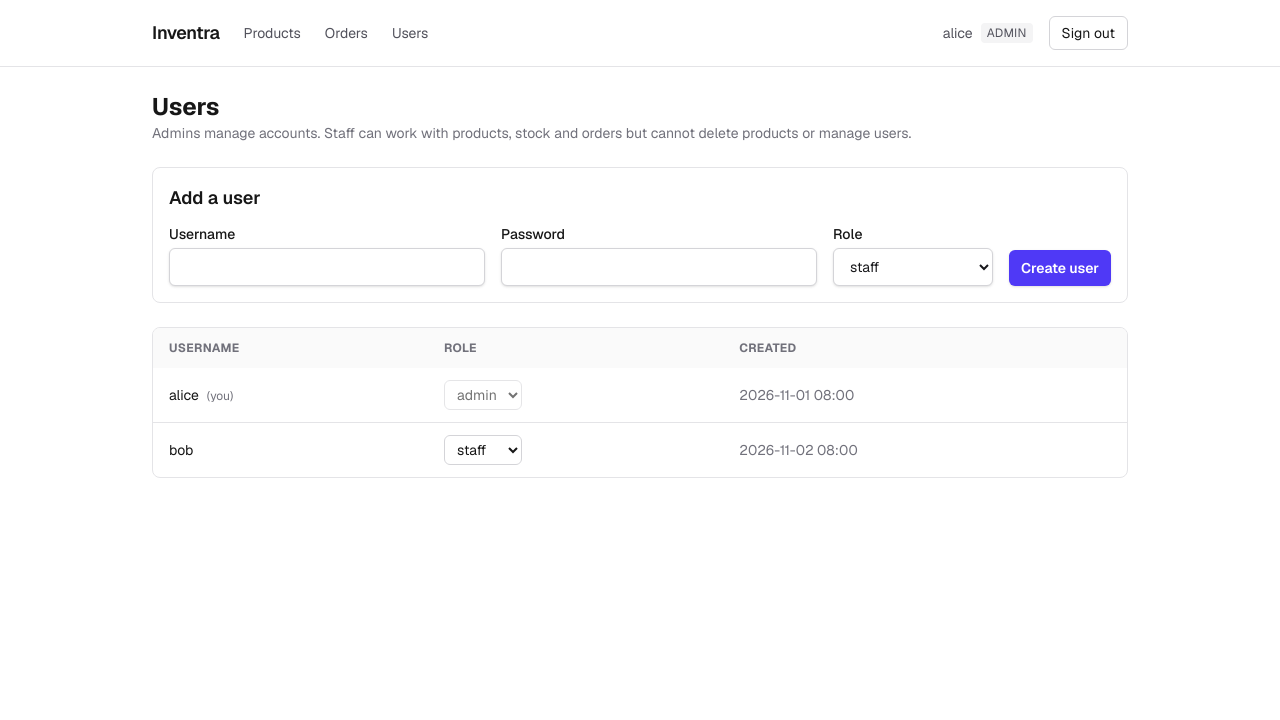
Test case: UsersPage › lets an admin see the users and add one
This screenshot has width=1280, height=720.
Check: the heading "Users" is shown, box [152,91,219,122]
In the field labelled "Username": (327, 267) [169,248,485,286], type "carol"
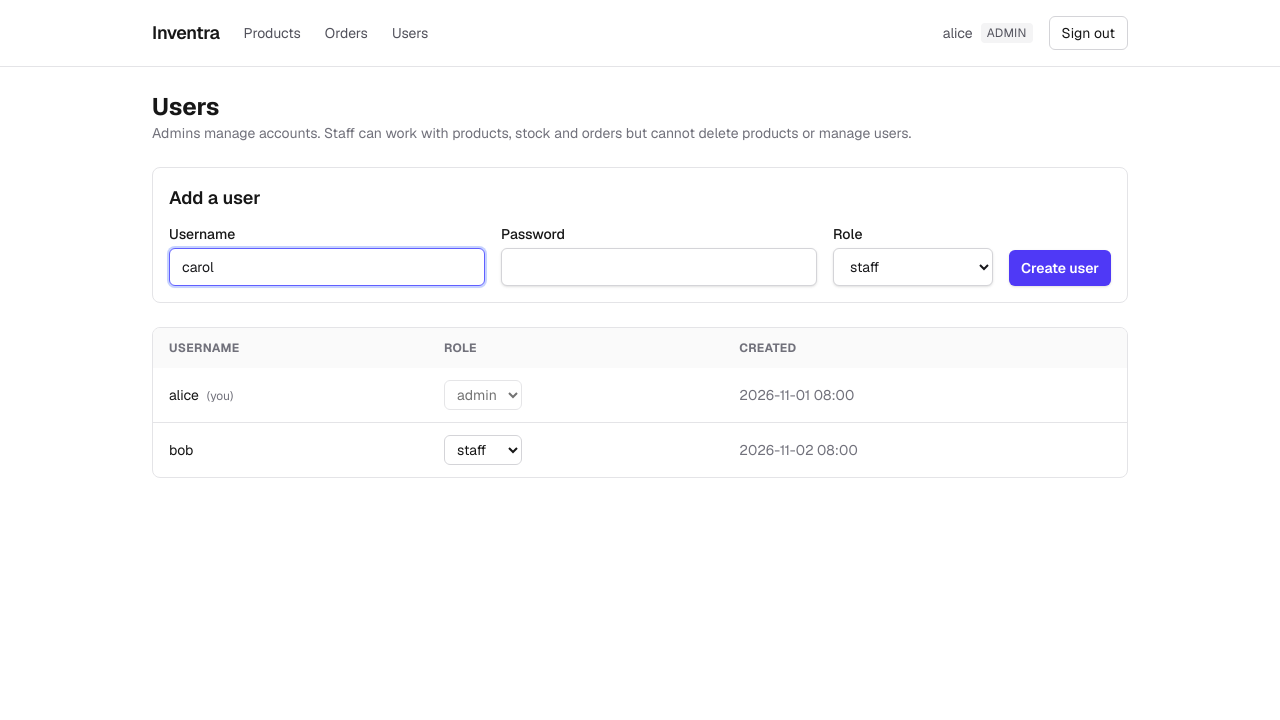
In the password field labelled "Password": (659, 267) [501,248,817,286], type "carolpass1"
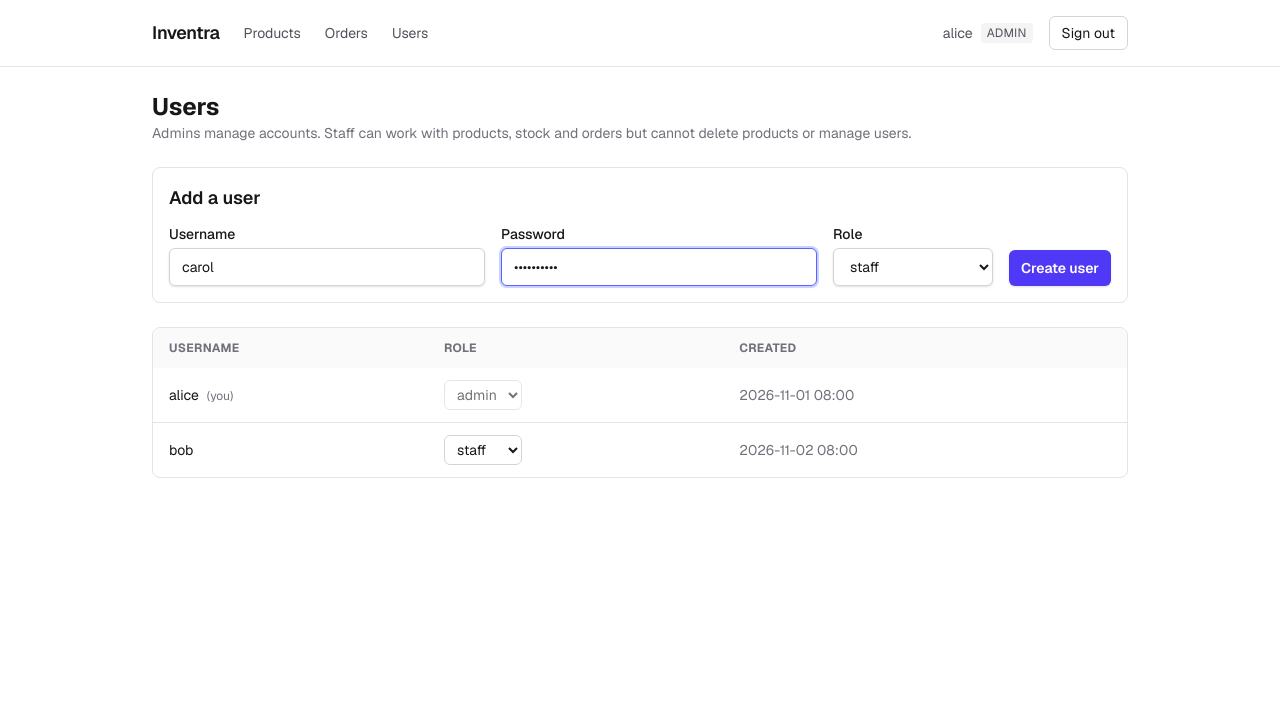
Click the button "Create user": (1060, 268) [1009,250,1111,286]
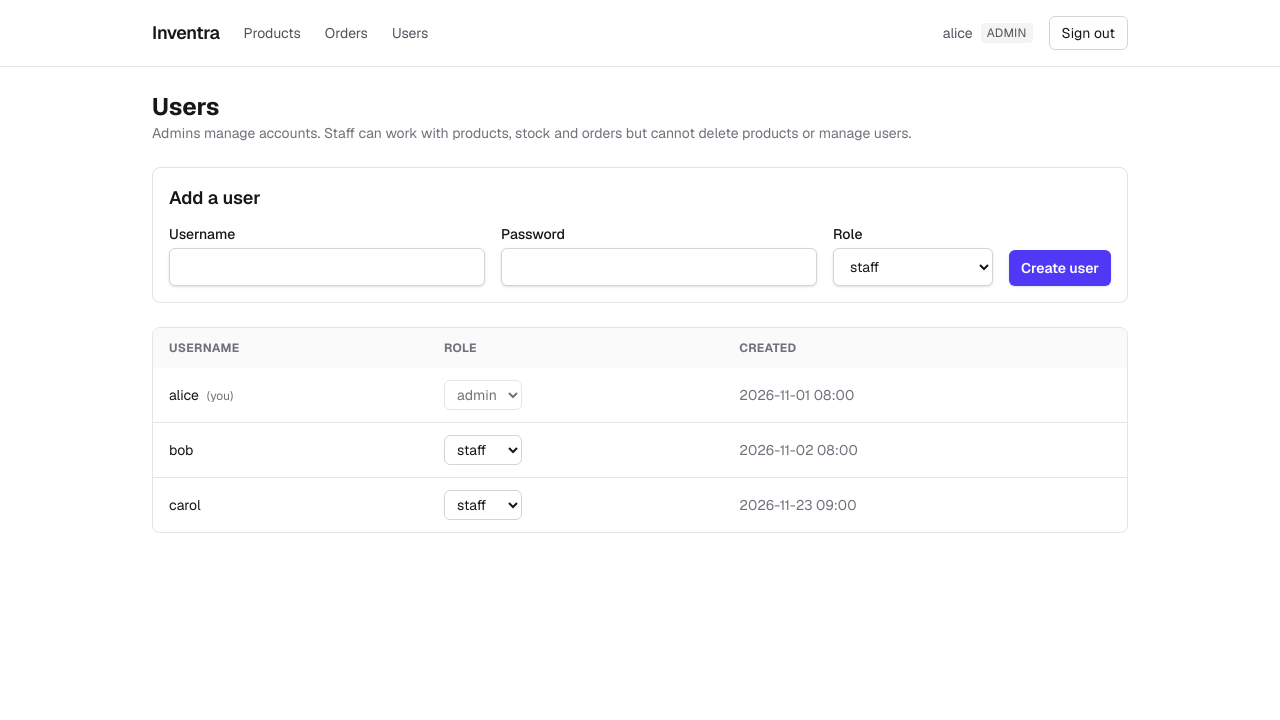
Check: the text "carol" is shown, box [153,478,428,532]
Check: the number of rows is 4, box [153,328,1127,368]; [153,368,1127,422]; [153,422,1127,478]; [153,478,1127,532]
